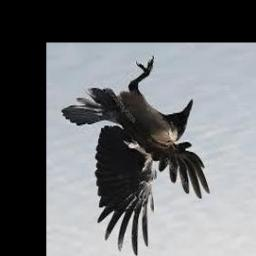Crow: (60, 55, 209, 256)
